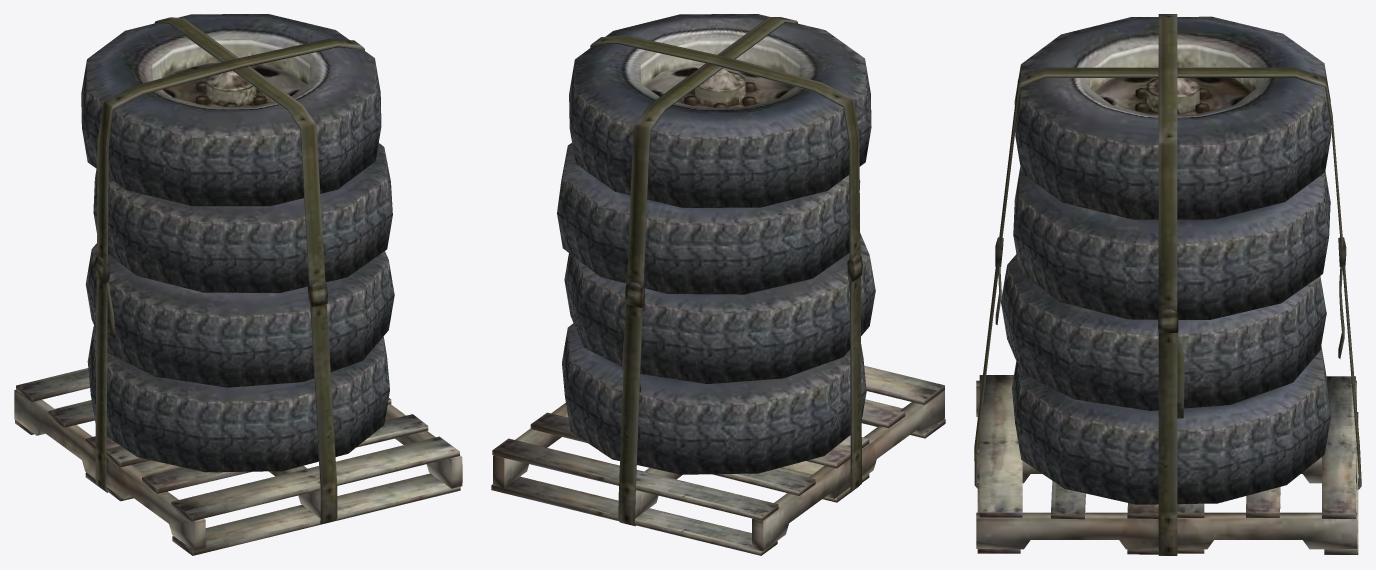
The model's file is tirestack.glb.
3 views of the same model, side by side, from view 1: azimuth 30°, elevation 25°; view 2: azimuth 150°, elevation 25°; view 3: azimuth 270°, elevation 25° (orthographic). The views are drawn at different scales.
Visible parts, largest first — view 1: 0_tirestack, 1_Wood_PalletCrate001a; view 2: 0_tirestack, 1_Wood_PalletCrate001a; view 3: 0_tirestack, 1_Wood_PalletCrate001a.
Part boxes in pixels (box(x1,y1,x2,y2)): 0_tirestack: box(81, 14, 394, 524); 1_Wood_PalletCrate001a: box(14, 368, 462, 555); 0_tirestack: box(557, 14, 875, 526); 1_Wood_PalletCrate001a: box(491, 365, 945, 555); 0_tirestack: box(974, 14, 1361, 555); 1_Wood_PalletCrate001a: box(976, 375, 1358, 554).
Bounding box in the file's own units: 1.26 × 1.72 × 1.45.
2 materials, 2 textured.
